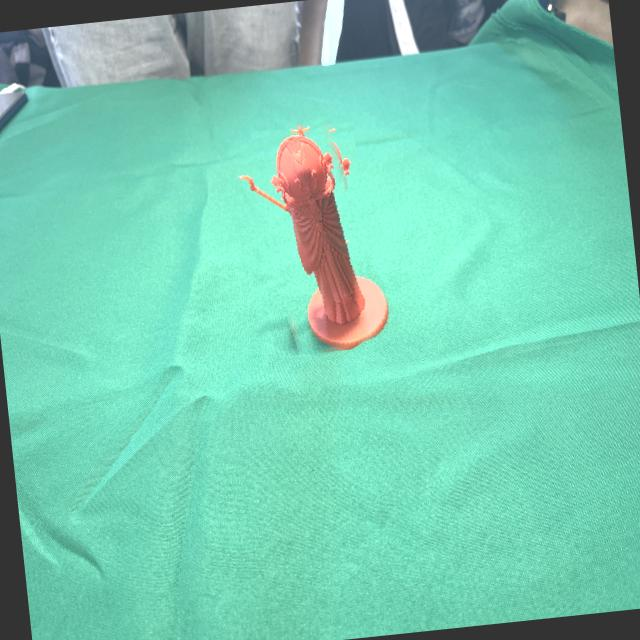amon: (238, 116, 388, 362)
